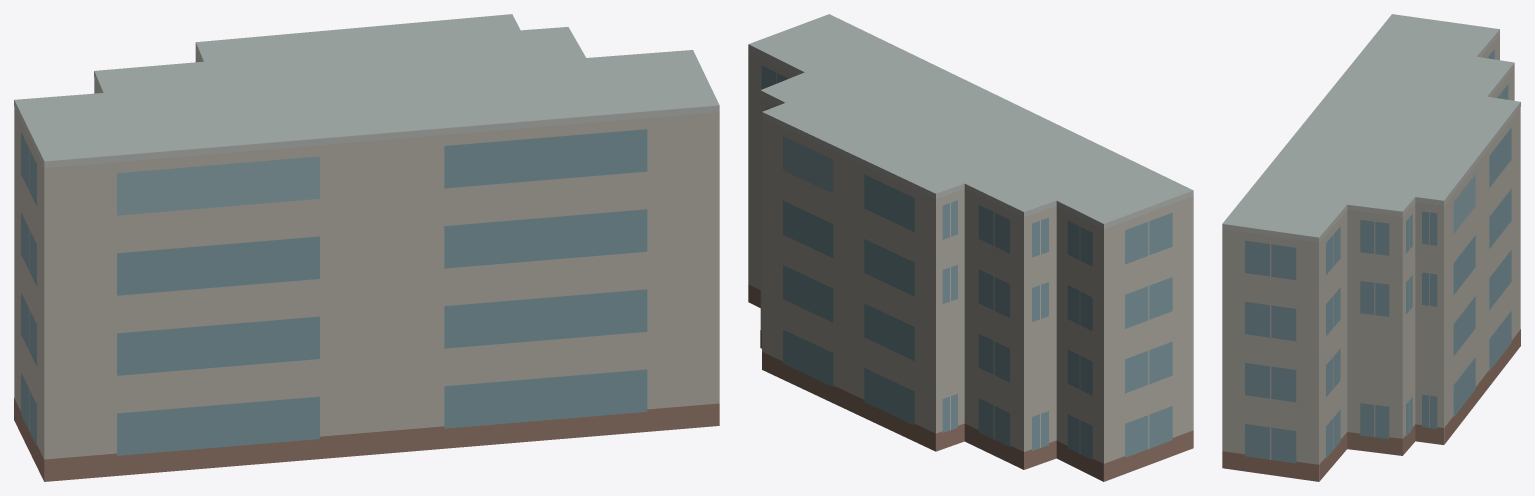
File: survey-upis-32711545.glb
The picture shows the model from 3 angles, left to right: view 1: azimuth 30°, elevation 25°; view 2: azimuth 150°, elevation 25°; view 3: azimuth 270°, elevation 25°; orthographic projection. The views are drawn at different scales.
Parts seen in each view (by area): view 1: survey-upis-32711545.tmp; view 2: survey-upis-32711545.tmp; view 3: survey-upis-32711545.tmp.
Part boxes in pixels (<box>): survey-upis-32711545.tmp: <box>14,14,719,481</box>; survey-upis-32711545.tmp: <box>748,14,1193,481</box>; survey-upis-32711545.tmp: <box>1222,14,1520,481</box>.
Size of the model in its own units: 23.17 by 11.8 by 13.08.
